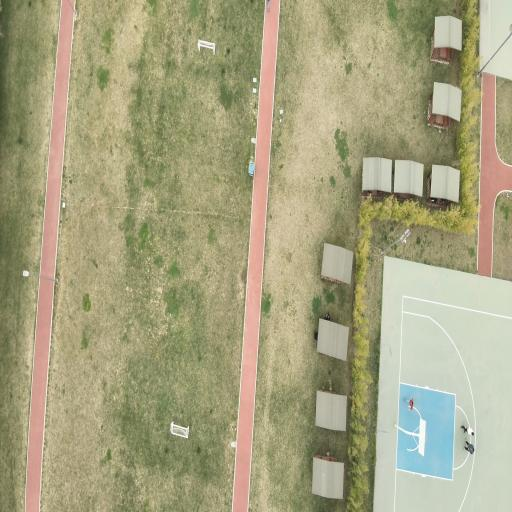person: (461, 426, 474, 436), (465, 441, 474, 454), (409, 397, 413, 410), (324, 312, 330, 320), (410, 398, 413, 411), (267, 0, 270, 10), (315, 332, 318, 340)
